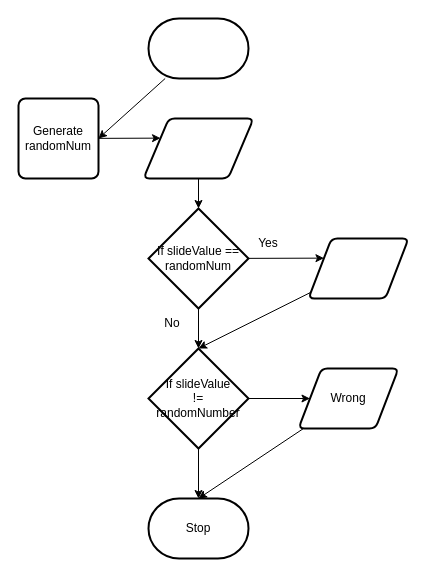
The diagram is 426 pixels wide and 576 high, and some of its shapes have lost their labels. Here are the shapes that lost their labels. From the top down, the centre of each, then its label:
At point (198, 48): "Start".
At point (198, 148): "Get Slide Value".
At point (358, 268): "Correct".
